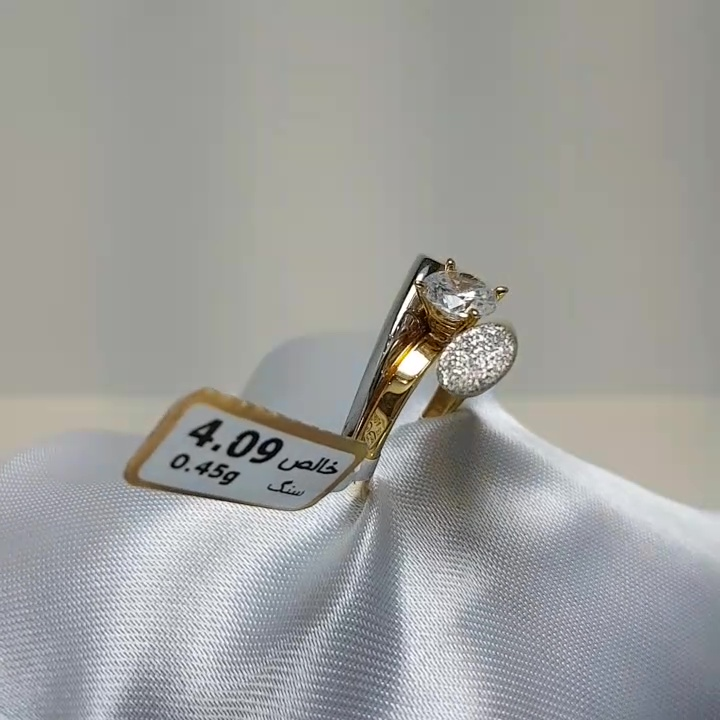Ring 7: (304, 226, 555, 506)
